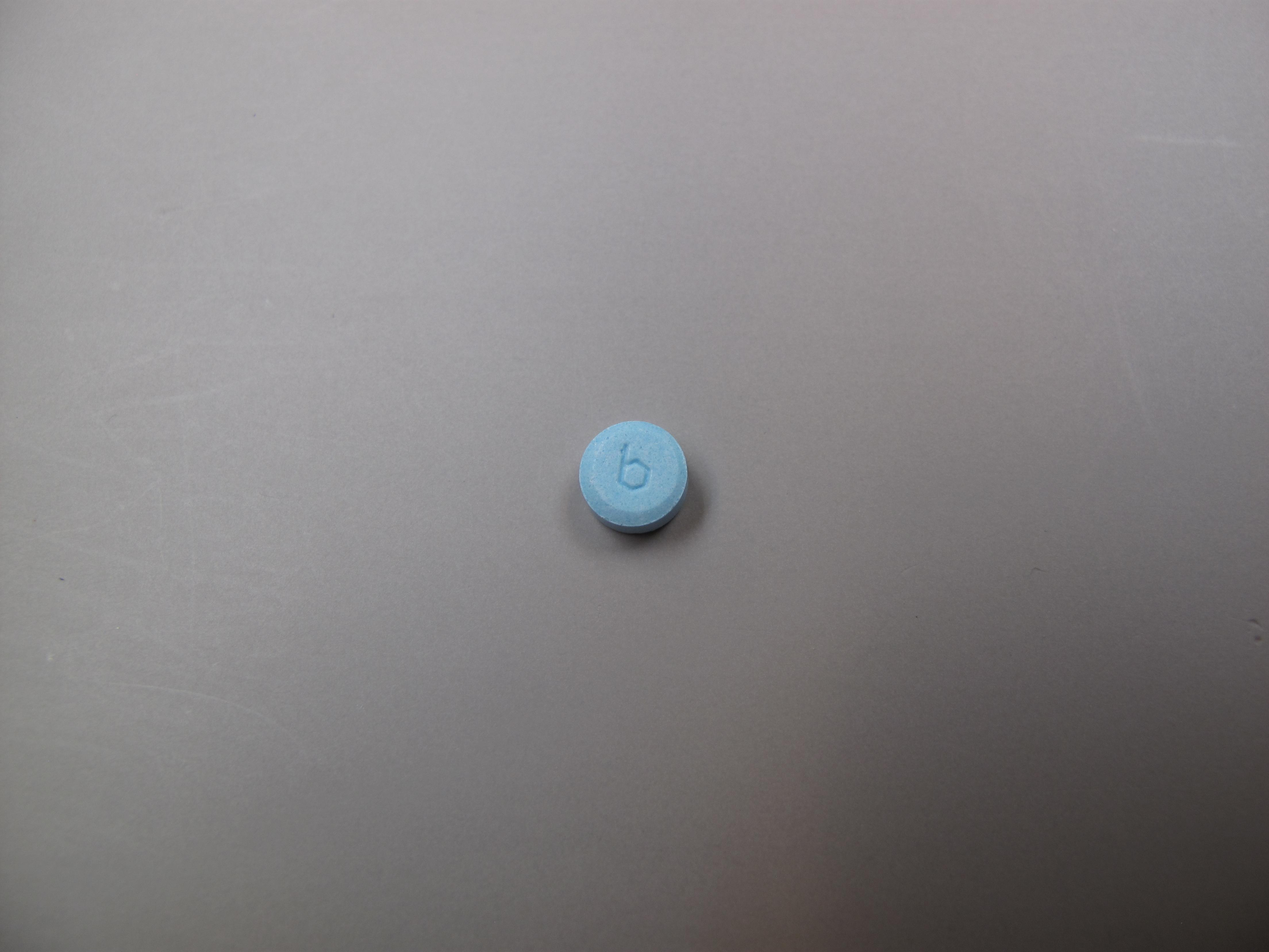Pill: (570, 415, 697, 539)
